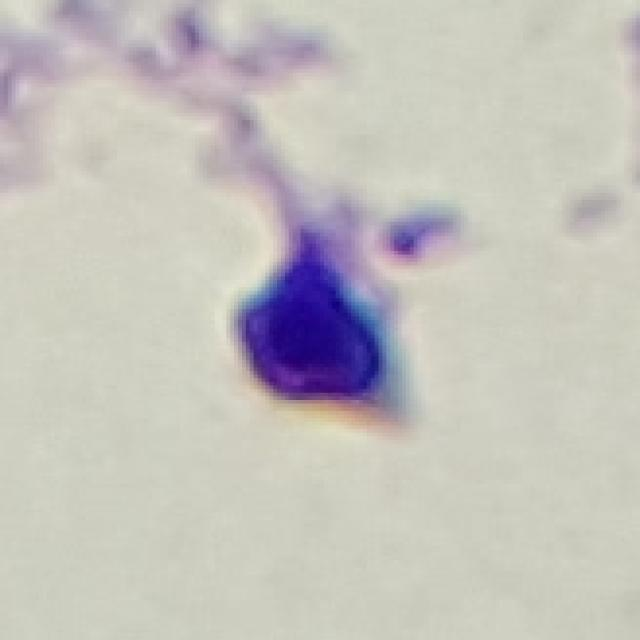non-sperm: (174, 180, 421, 438)
